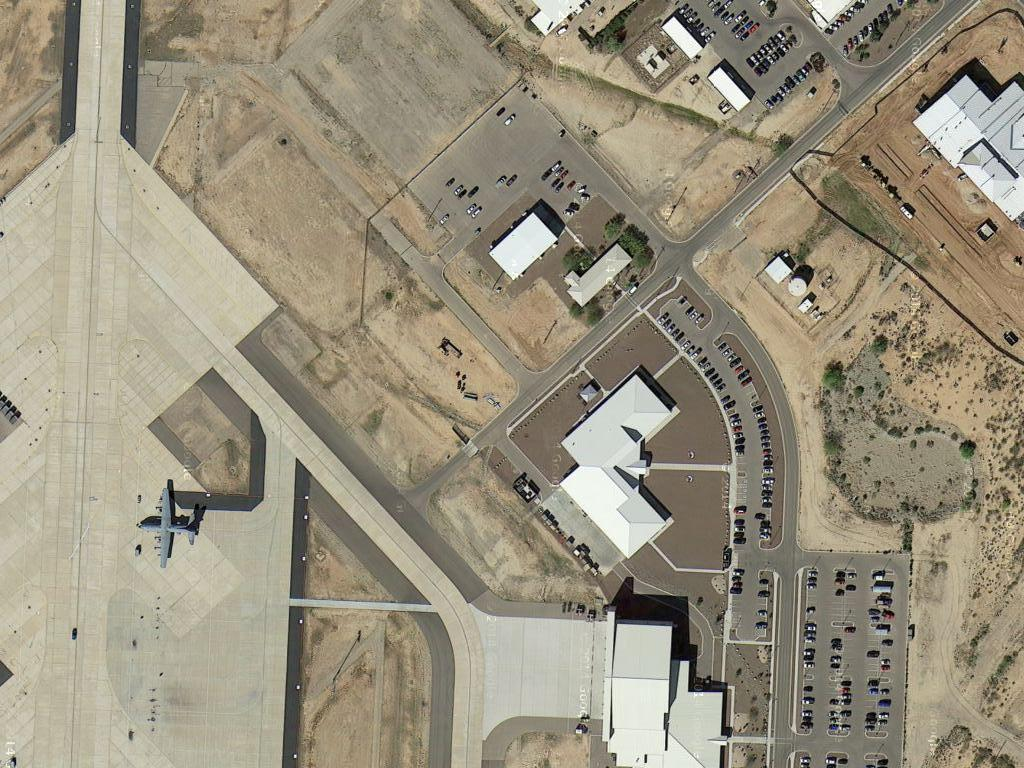C-130: (135, 479, 204, 568)
